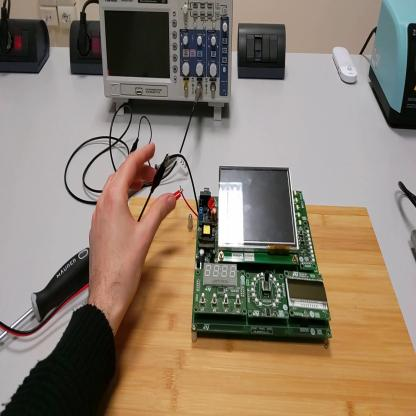hand: (88, 143, 176, 305)
low voltage board: (169, 153, 334, 348)
oscilloscope: (98, 2, 235, 117)
oscilloscope probe tip: (129, 151, 181, 198)
pliers: (410, 231, 416, 258)
screwdriver-: (2, 248, 92, 343)
socket: (2, 19, 51, 77), (70, 22, 103, 75)
welder station: (372, 4, 416, 129)
